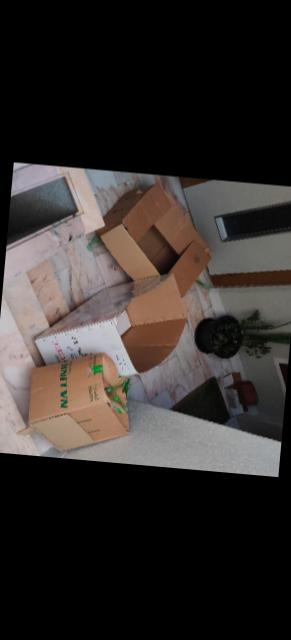cardboard paper: (34, 274, 186, 377), (94, 183, 211, 299), (28, 353, 128, 451)
